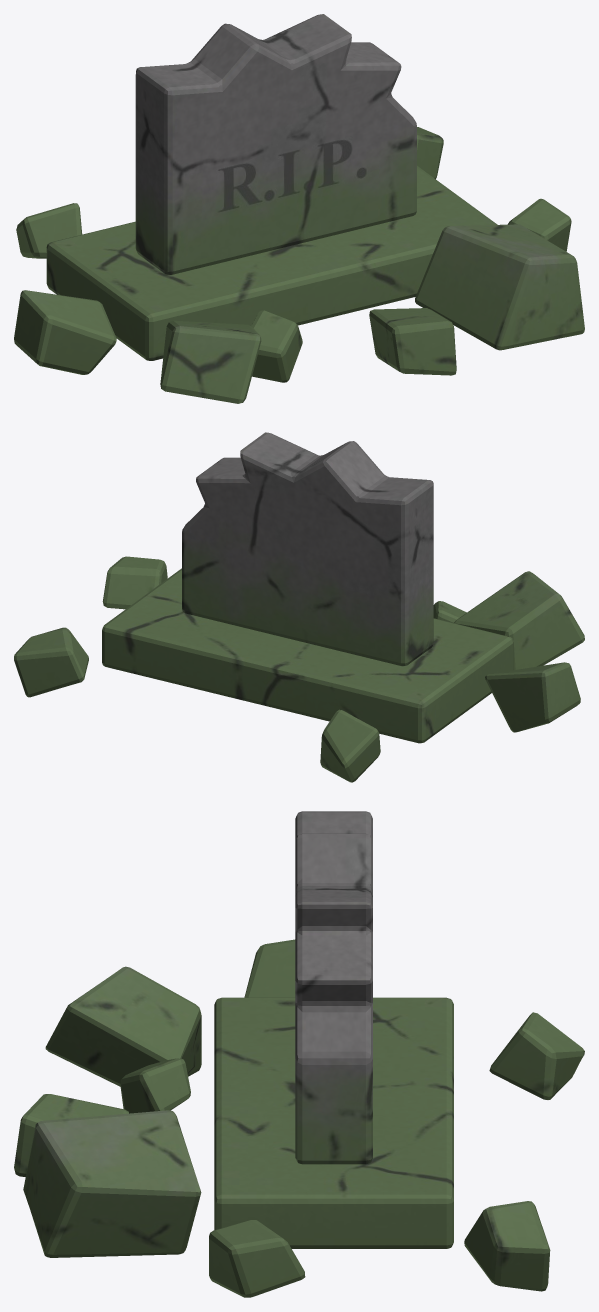
Rendered from gravestone_rubble_a.glb.
3 renders of one model, top to bottom at view 1: azimuth 30°, elevation 25°; view 2: azimuth 150°, elevation 25°; view 3: azimuth 270°, elevation 25°, orthographic. The views are drawn at different scales.
Parts seen in each view (by area): view 1: gravestone_rubble_a; view 2: gravestone_rubble_a; view 3: gravestone_rubble_a.
Part boxes in pixels (x1,y1,x2,y2): gravestone_rubble_a: (14, 14, 584, 403); gravestone_rubble_a: (14, 432, 584, 782); gravestone_rubble_a: (14, 811, 584, 1297).
Size of the model in its own units: 1.16 by 0.5886 by 0.9529.
Materials: 1 (1 with a texture image).
